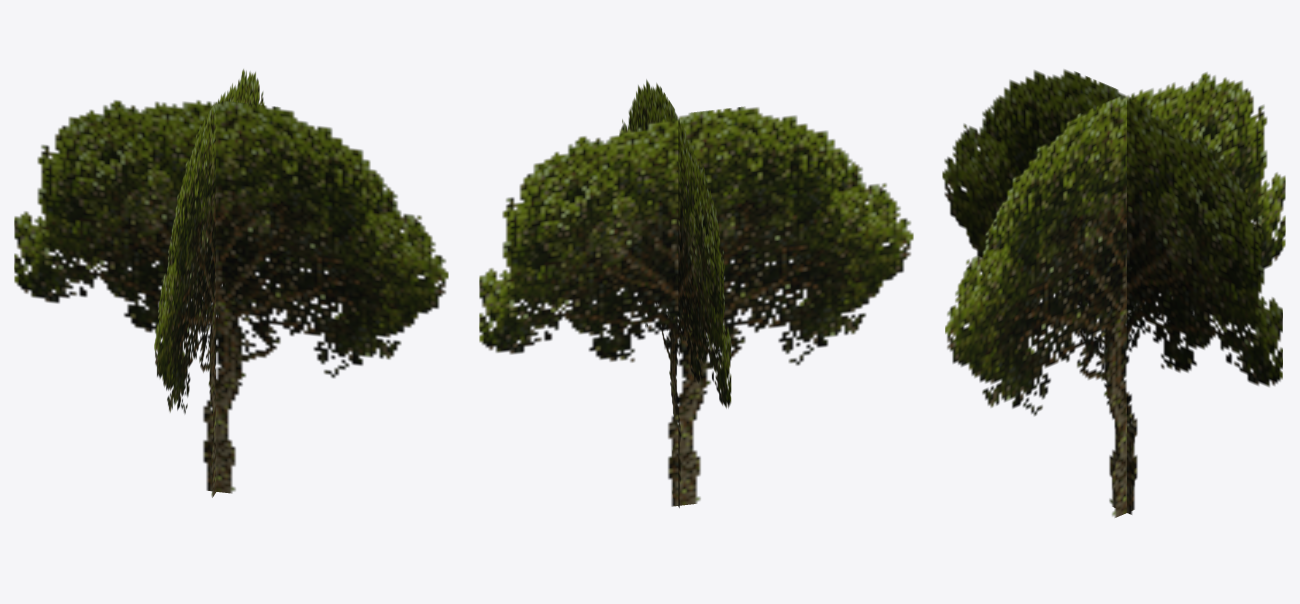
Rendered from tree086.glb.
The picture shows the model from 3 angles, left to right: view 1: azimuth 30°, elevation 25°; view 2: azimuth 150°, elevation 25°; view 3: azimuth 270°, elevation 25°; orthographic projection. The views are drawn at different scales.
Visible parts, largest first — view 1: tree086; view 2: tree086; view 3: tree086.
Boxes of the visible parts, x1,y1,x2,y2 form: tree086: (14, 69, 448, 497); tree086: (479, 79, 913, 507); tree086: (942, 69, 1285, 517).
Bounding box in the file's own units: 2.59 × 3.35 × 2.41.
1 material, 1 textured.
